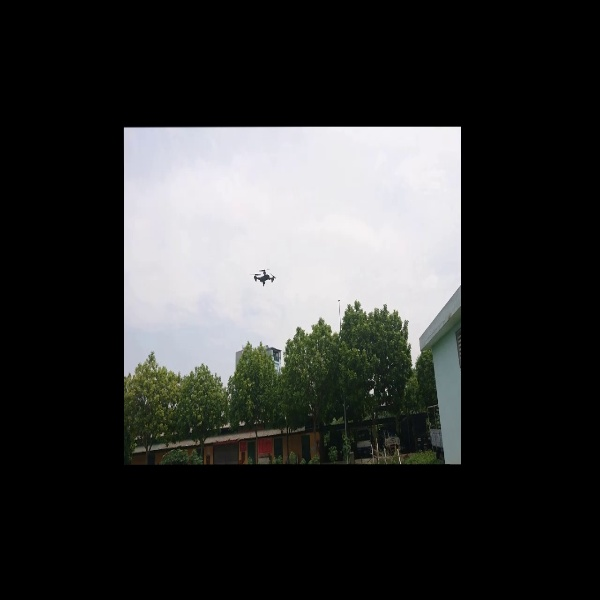drone: (252, 264, 277, 290)
